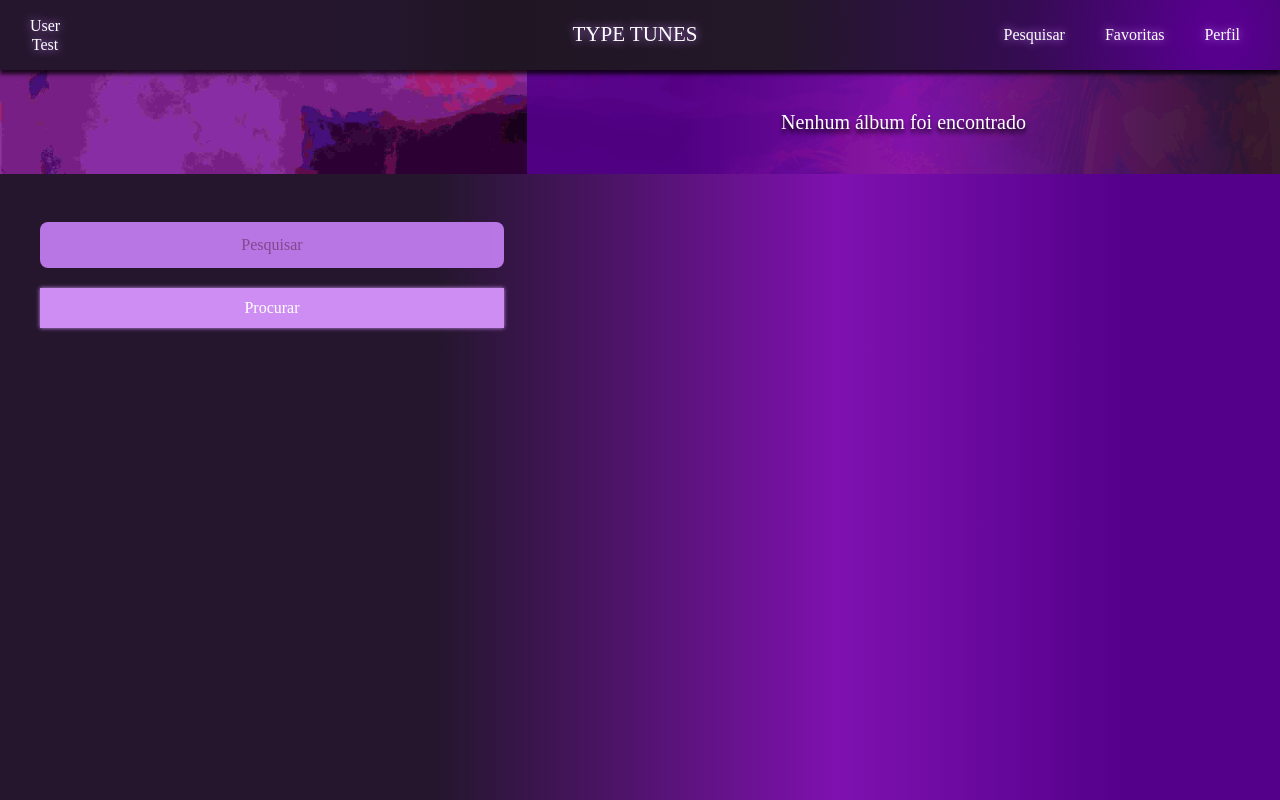
Scenario: 6 - Faça a requisição para pesquisar artistas › Será validado se ao clicar no botão, o texto Resultado de álbuns de: <artista> aparece na tela
Type "U2" into the field with test id "search-artist-input" at (272, 245), box [40,222,504,268]
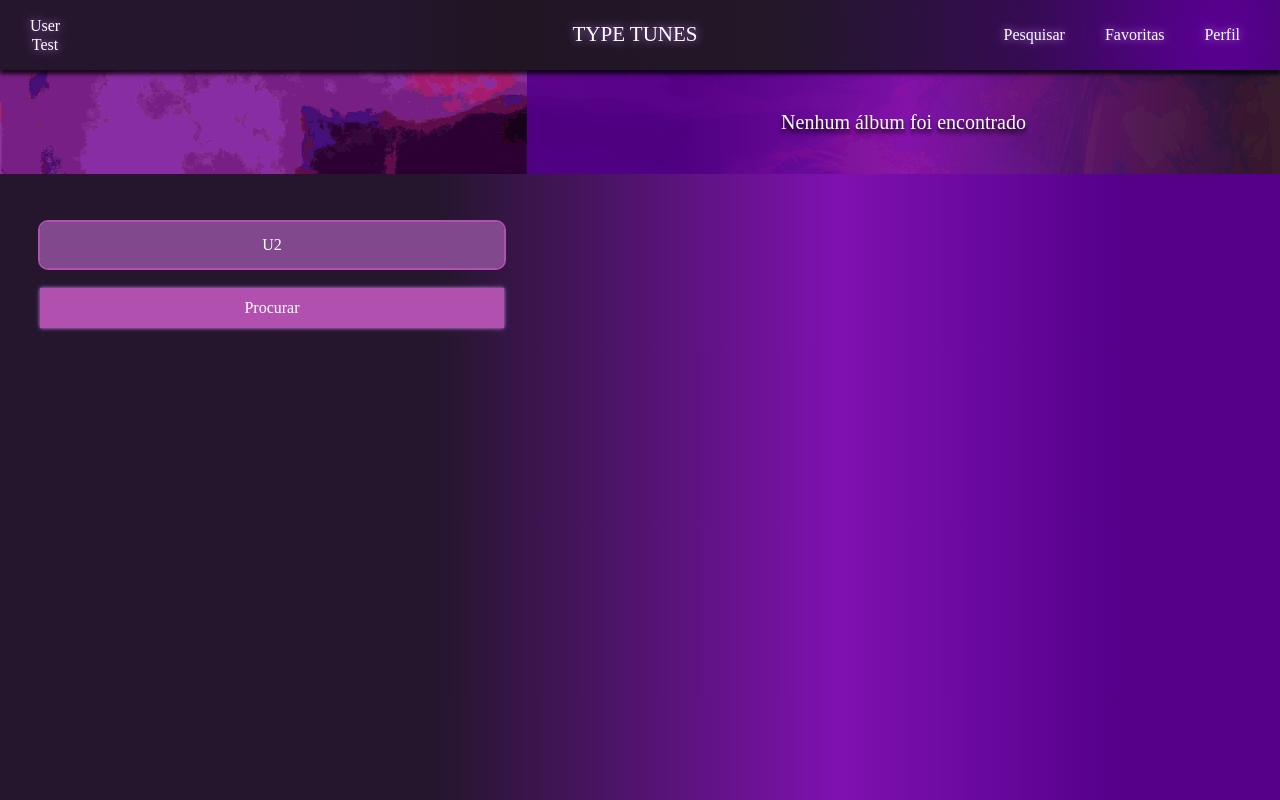
Click the button with test id "search-artist-button" at (272, 308), box [40,288,504,328]
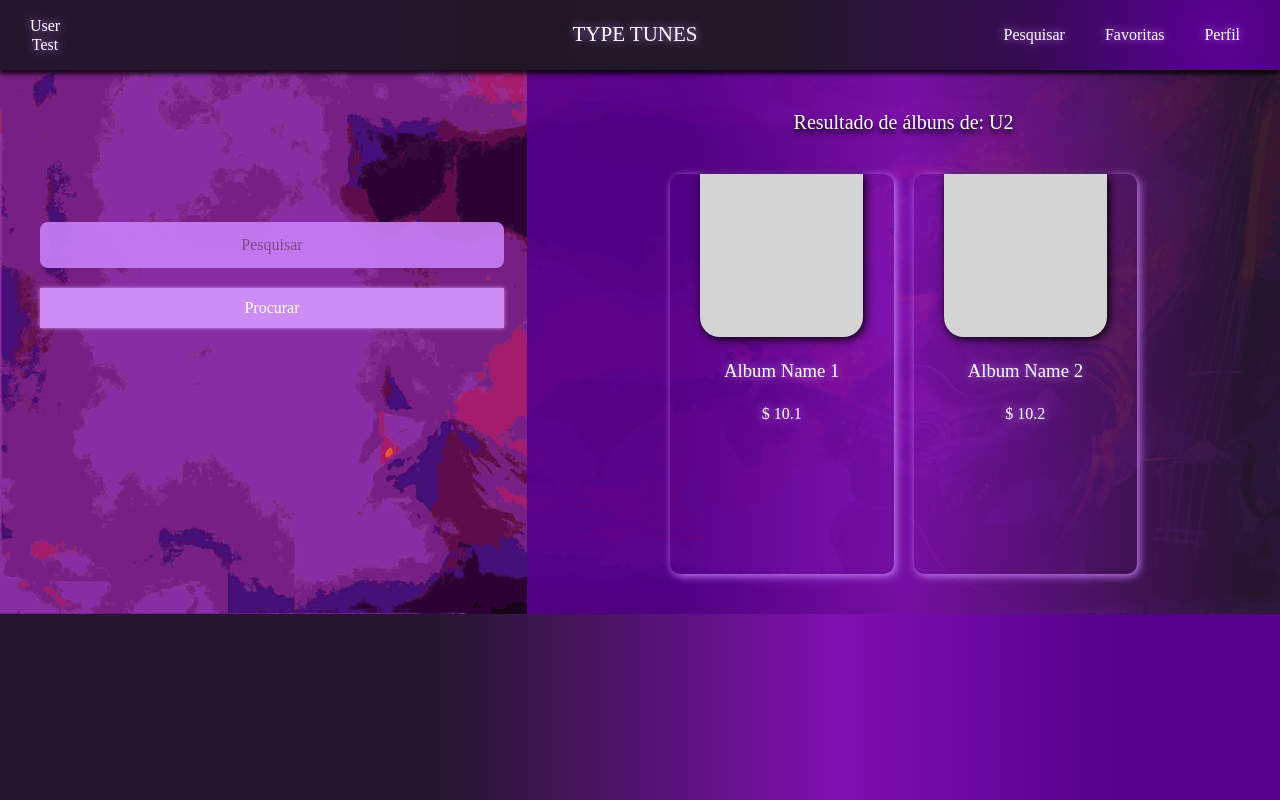
Check: the heading "Resultado de álbuns de: U2" is shown, box [794,110,1014,134]
Check: the field with test id "search-artist-input" is empty, box [40,222,504,268]
